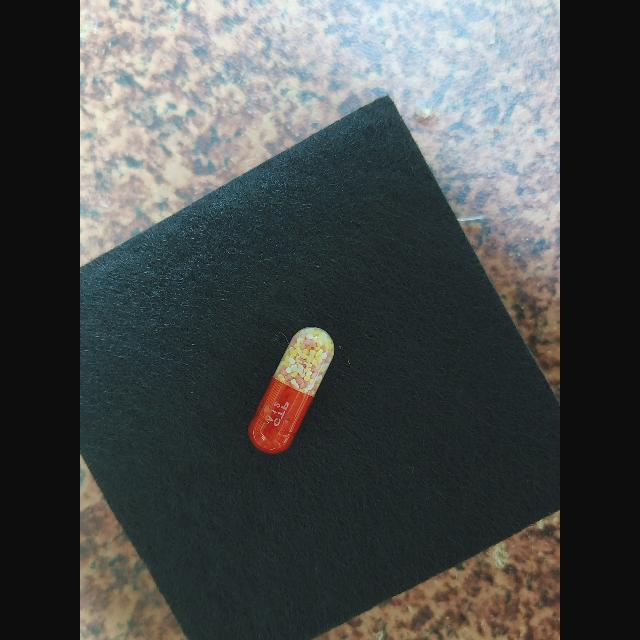Intact Capsule: (248, 327, 334, 454)
